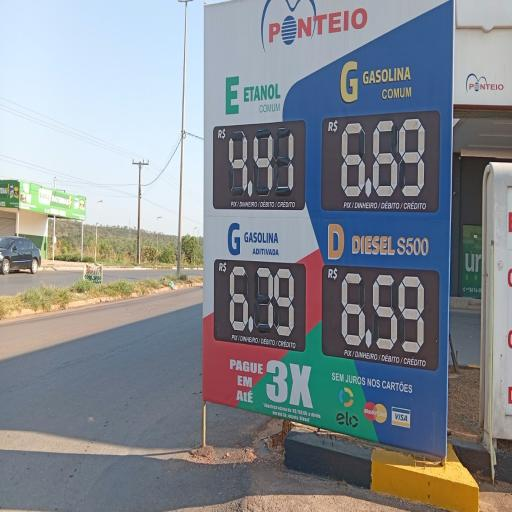ETANOL: (218, 67, 288, 114)
GASOLINA AD: (222, 215, 291, 257)
GASOLINA C: (331, 46, 424, 108)
S500: (324, 218, 432, 262)
placa: (205, 7, 449, 453)
preco: (335, 270, 427, 358), (341, 118, 429, 202), (216, 129, 298, 201), (225, 264, 296, 340)
